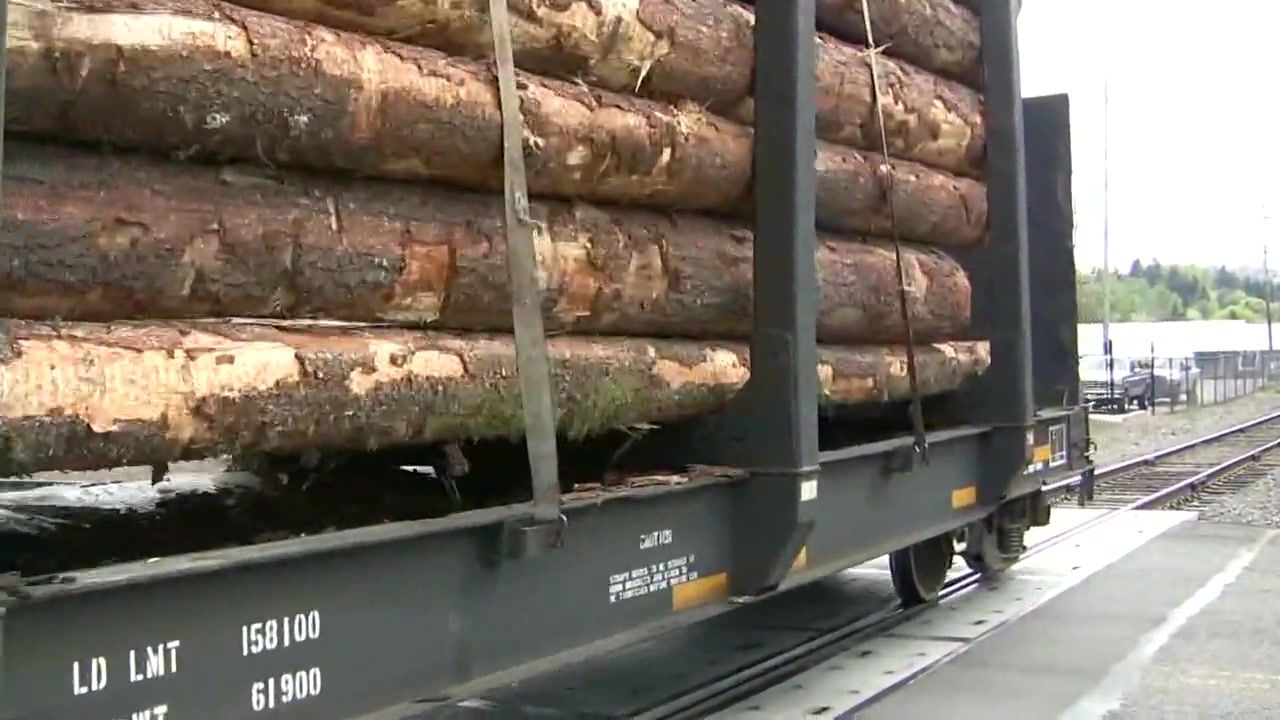train: (1, 1, 1100, 720)
